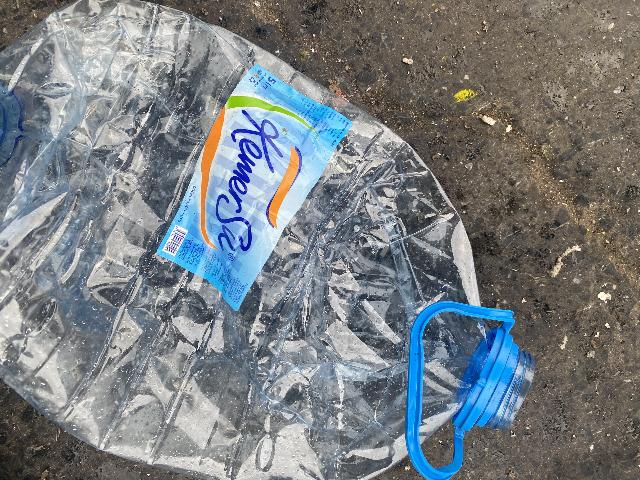Plastik: (3, 0, 532, 480)
